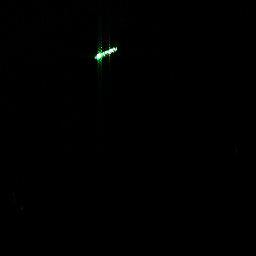ship: (92, 44, 119, 62)
